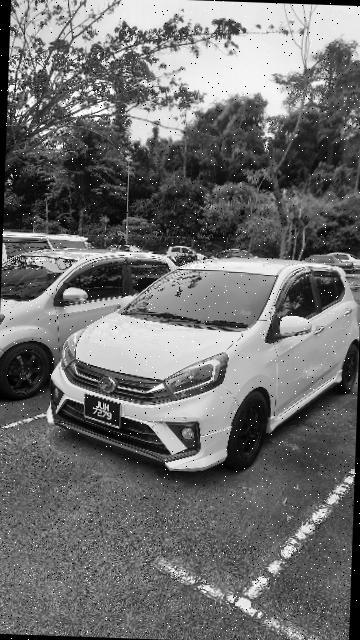License_Plate: (78, 388, 131, 434)
car: (40, 246, 360, 479)
